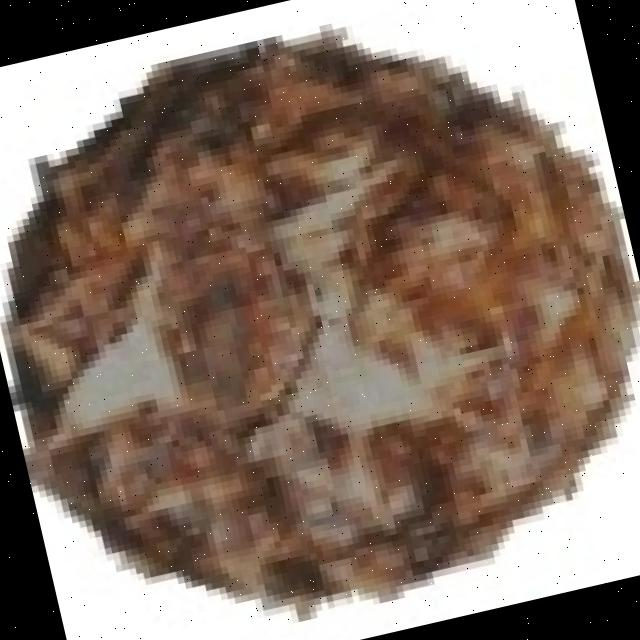pineapple: (23, 52, 640, 618)
